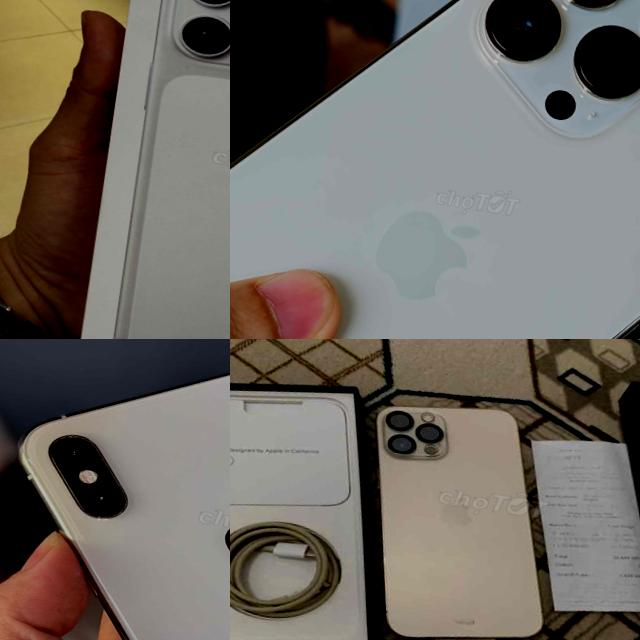gen_12_13: (331, 389, 588, 640)
gen_14: (230, 0, 640, 339)
gen_17: (82, 0, 230, 339)
gen_x_xs: (20, 374, 230, 640)
